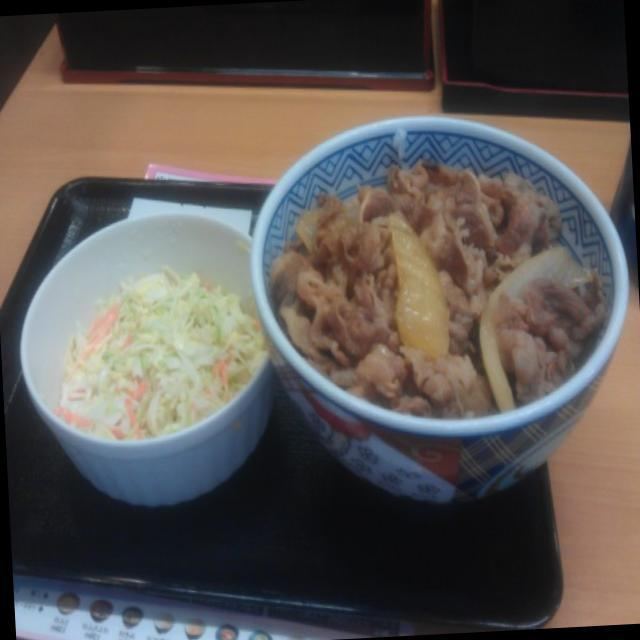Green Salad: (50, 250, 248, 440)
